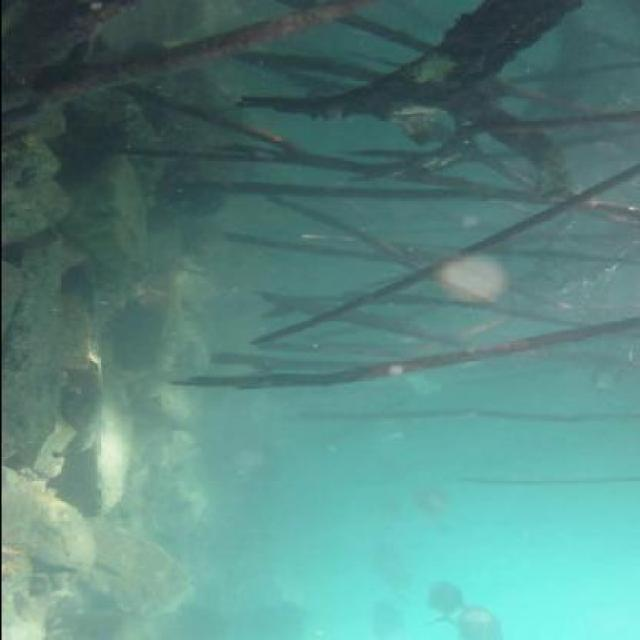Caranx_sexfasciatus_juvenile: (407, 484, 462, 547), (418, 578, 474, 637), (358, 534, 409, 598), (354, 602, 411, 640), (456, 601, 501, 640)
